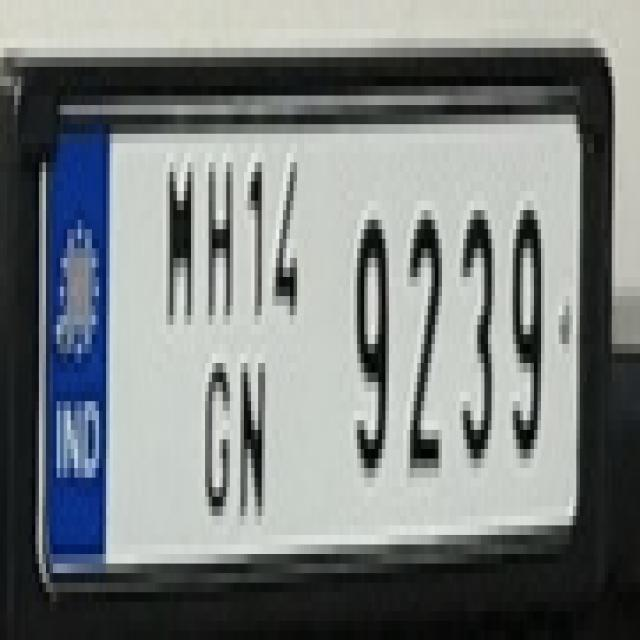1: (243, 148, 266, 332)
3: (454, 190, 501, 502)
4: (270, 146, 305, 330)
9: (349, 190, 399, 493), (506, 172, 550, 490)
G: (200, 348, 237, 530)
H: (204, 149, 238, 333)
M: (163, 147, 200, 344)
N: (236, 348, 270, 531)
